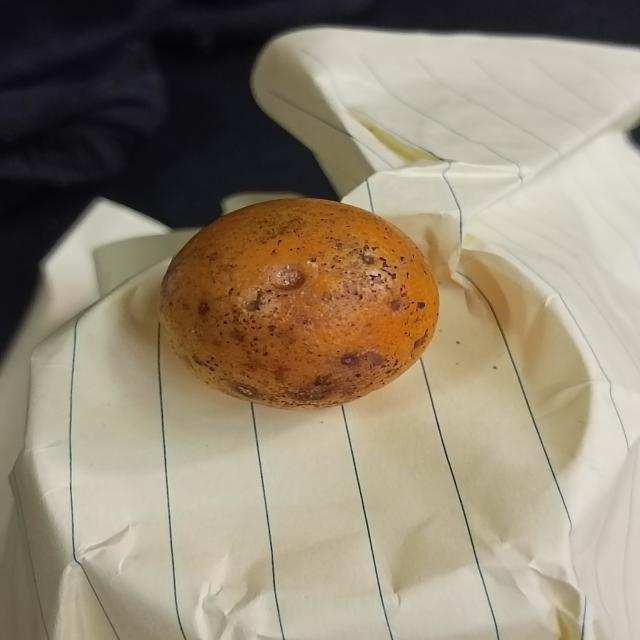black spot: (154, 191, 442, 405)
